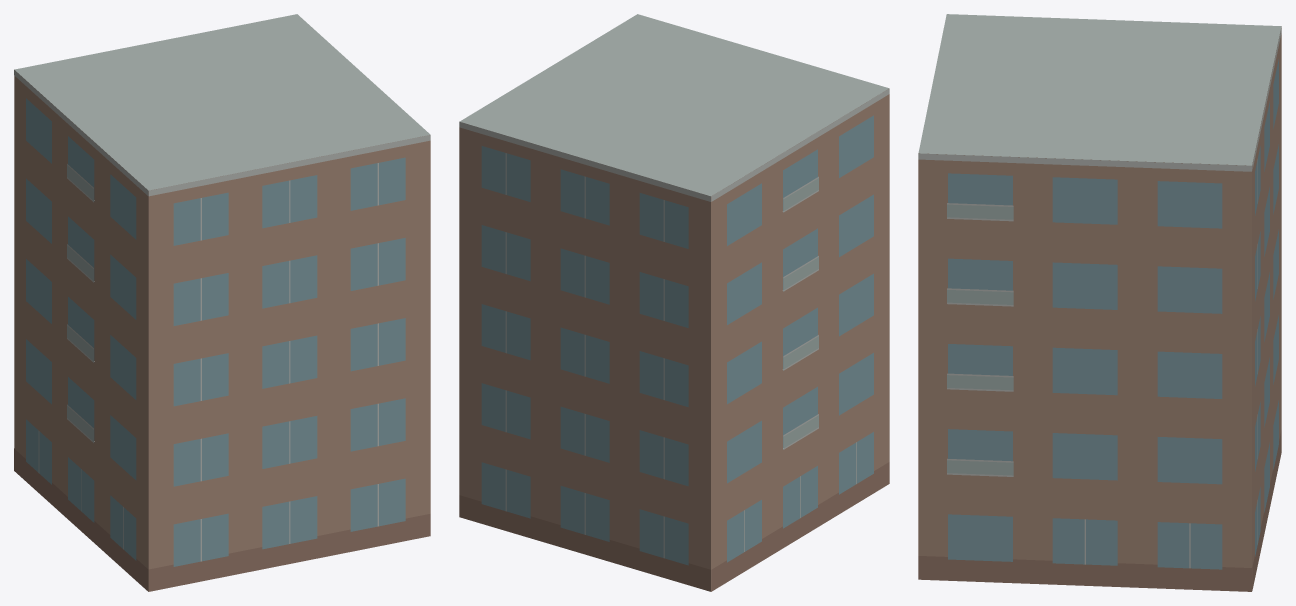
The model's file is survey-upis-32995308.glb.
3 views of the same model, side by side, from view 1: azimuth 30°, elevation 25°; view 2: azimuth 150°, elevation 25°; view 3: azimuth 270°, elevation 25° (orthographic). The views are drawn at different scales.
Visible parts, largest first — view 1: survey-upis-32995308.tmp; view 2: survey-upis-32995308.tmp; view 3: survey-upis-32995308.tmp.
Part boxes in pixels (left/top/right/bottom): survey-upis-32995308.tmp: left=14, top=14, right=430, bottom=591; survey-upis-32995308.tmp: left=459, top=14, right=889, bottom=591; survey-upis-32995308.tmp: left=918, top=14, right=1281, bottom=591.
Bounding box in the file's own units: 12.89 × 16.88 × 13.05.
